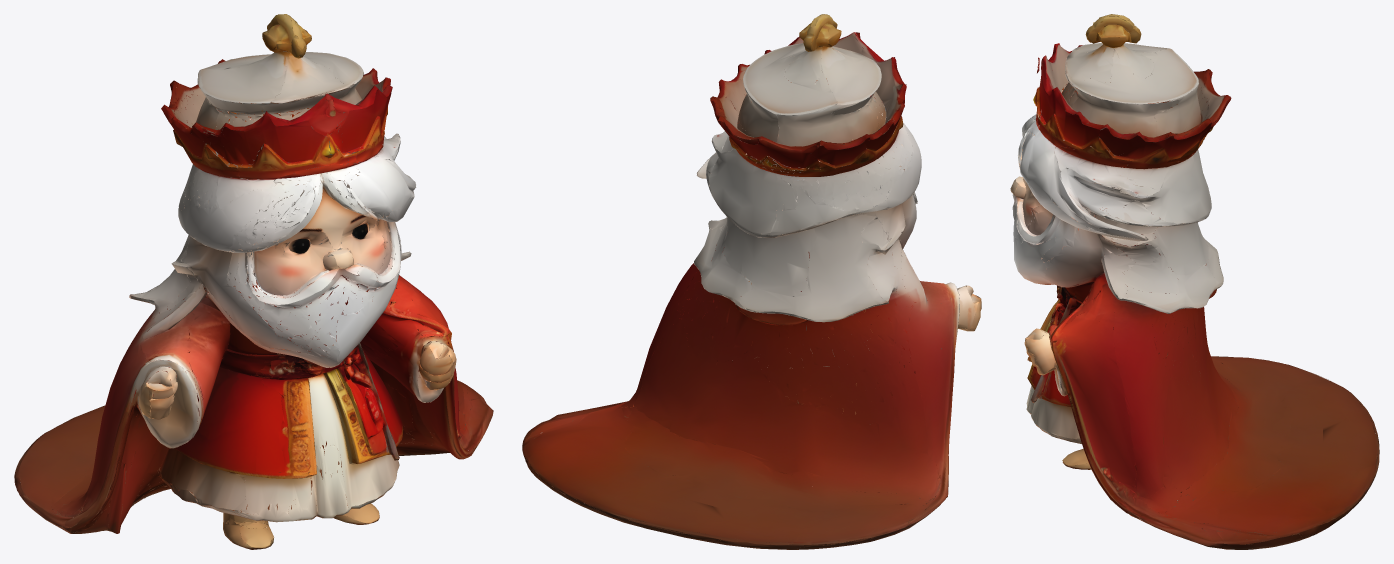
File: hunyuan-king.glb
3 renders of one model, left to right at view 1: azimuth 30°, elevation 25°; view 2: azimuth 150°, elevation 25°; view 3: azimuth 270°, elevation 25°, orthographic. The views are drawn at different scales.
Parts seen in each view (by area): view 1: node_0; view 2: node_0; view 3: node_0.
Boxes of the visible parts, x1,y1,x2,y2 form: node_0: [14, 14, 493, 549]; node_0: [522, 14, 981, 549]; node_0: [1010, 14, 1379, 549].
Size of the model in its own units: 0.8166 by 0.8677 by 0.6786.
Materials: 1 (1 with a texture image).
